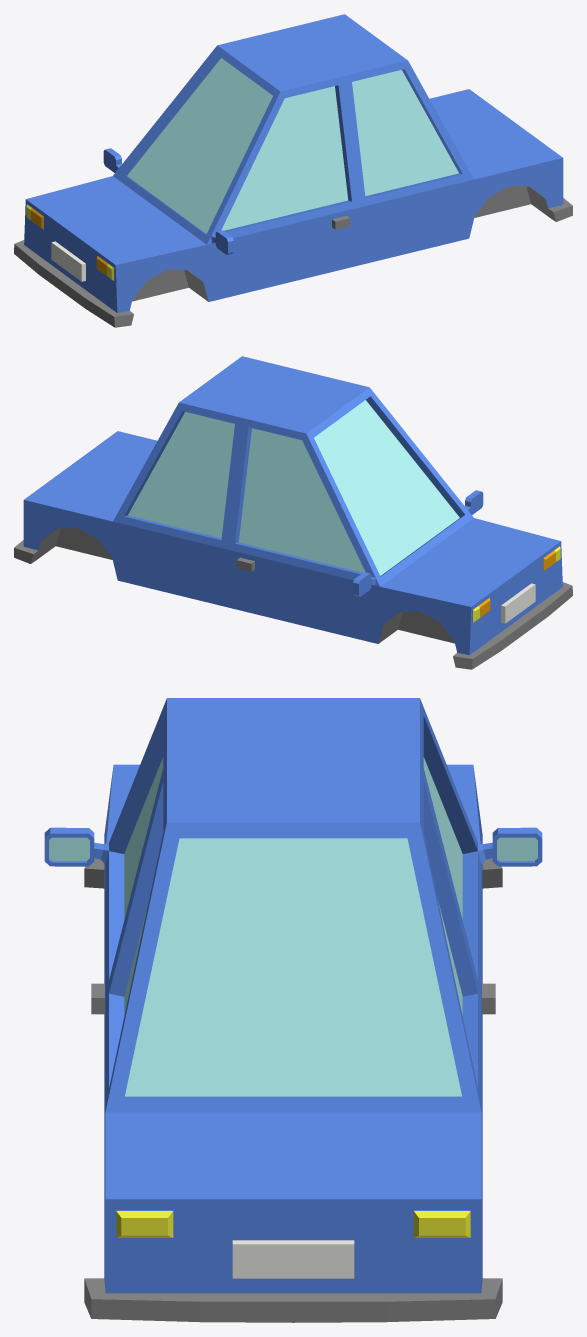
The model's file is carBlue.fbx.
3 views of the same model, one above another, from view 1: azimuth 30°, elevation 25°; view 2: azimuth 150°, elevation 25°; view 3: azimuth 270°, elevation 25° (orthographic). The views are drawn at different scales.
Visible parts, largest first — view 1: carBlue; view 2: carBlue; view 3: carBlue.
Boxes of the visible parts, bbox=[...] form: carBlue: bbox=[14, 14, 572, 327]; carBlue: bbox=[14, 356, 572, 669]; carBlue: bbox=[44, 698, 542, 1322].
Size of the model in its own units: 319 by 252 by 686.
